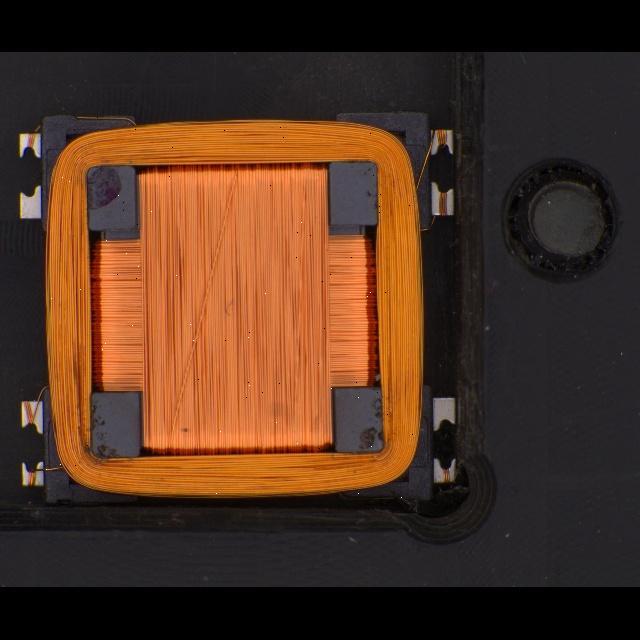Winding_Z: (42, 114, 428, 500)
